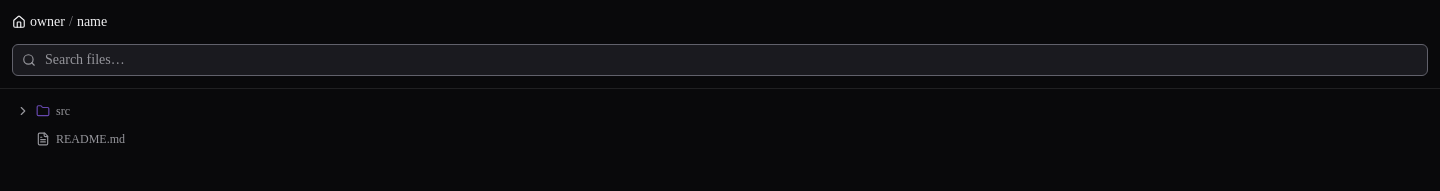
Test: FileExplorer — navigation › expands a folder on click
Click the list item "src" at (23, 111), box [8, 97, 1432, 125]
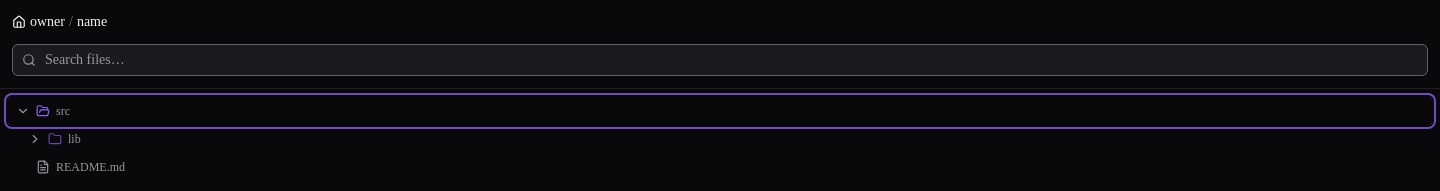
expect the text "lib" is shown: met, box [68, 131, 81, 147]
